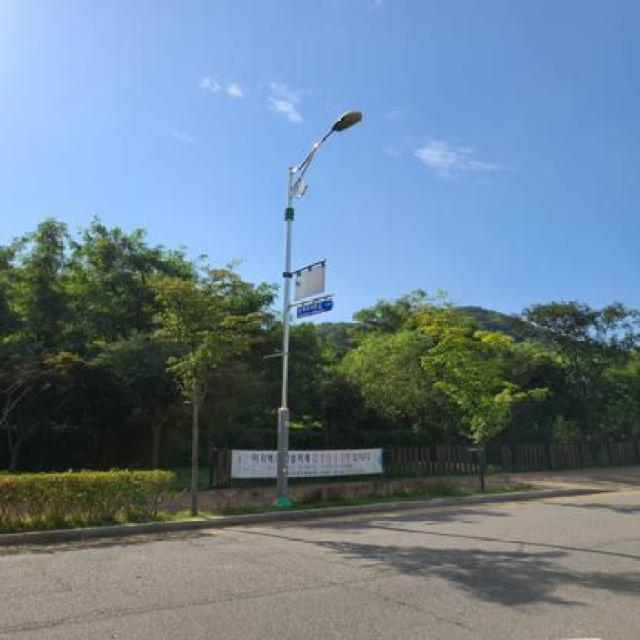pole: (268, 152, 300, 514)
